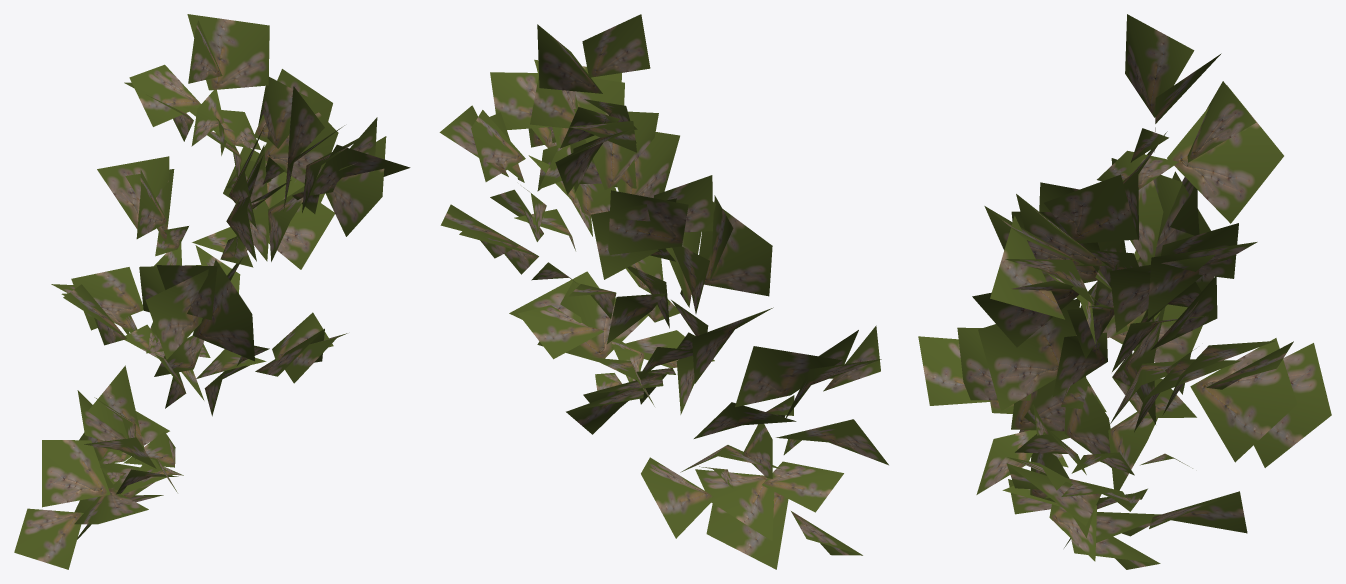
Rendered from arbol_seco_4.obj.
3 views of the same model, side by side, from view 1: azimuth 30°, elevation 25°; view 2: azimuth 150°, elevation 25°; view 3: azimuth 270°, elevation 25° (orthographic). The views are drawn at different scales.
Parts seen in each view (by area): view 1: export_Tree_2_Tree_2Mat_0; view 2: export_Tree_2_Tree_2Mat_0; view 3: export_Tree_2_Tree_2Mat_0.
Boxes of the visible parts, x1=… form: export_Tree_2_Tree_2Mat_0: x1=14, y1=14, x2=410, y2=569; export_Tree_2_Tree_2Mat_0: x1=439, y1=14, x2=888, y2=569; export_Tree_2_Tree_2Mat_0: x1=918, y1=14, x2=1331, y2=569.
Bounding box in the file's own units: 0.77 × 1 × 0.5892.
1 material, 1 textured.
